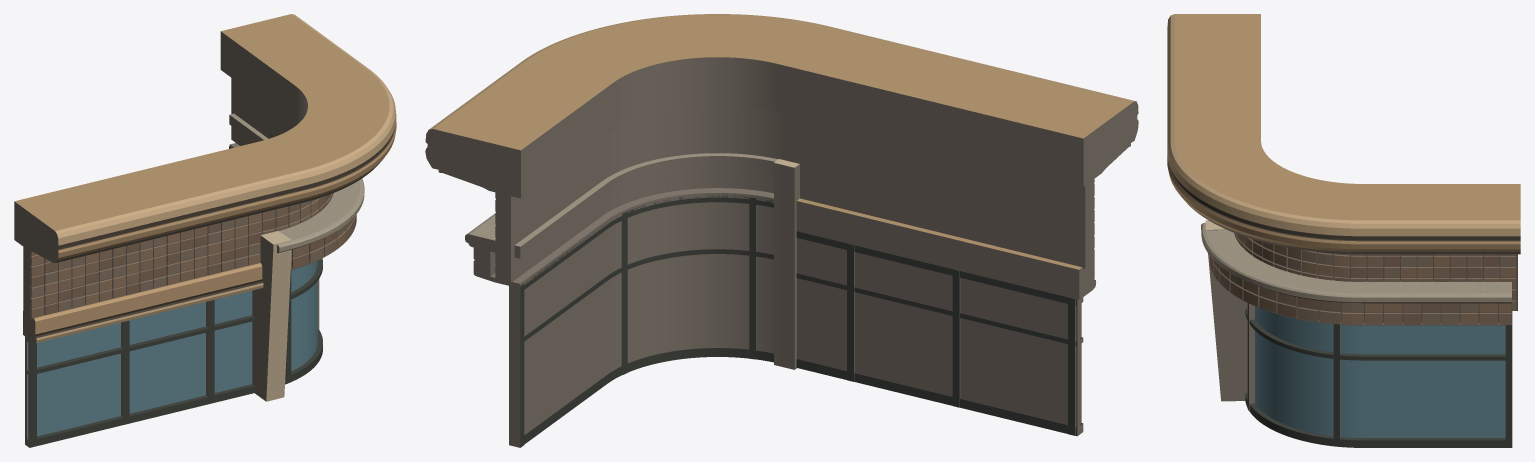
Rendered from xuhui-wuxing-96-curved-cornice-raw.glb.
3 views of the same model, side by side, from view 1: azimuth 30°, elevation 25°; view 2: azimuth 150°, elevation 25°; view 3: azimuth 270°, elevation 25° (orthographic). The views are drawn at different scales.
Parts seen in each view (by area): view 1: 吴兴路96号花园住宅圆角檐口与窗罩; view 2: 吴兴路96号花园住宅圆角檐口与窗罩; view 3: 吴兴路96号花园住宅圆角檐口与窗罩.
Part boxes in pixels (left/top/right/bottom): 吴兴路96号花园住宅圆角檐口与窗罩: left=14, top=14, right=396, bottom=447; 吴兴路96号花园住宅圆角檐口与窗罩: left=425, top=14, right=1138, bottom=447; 吴兴路96号花园住宅圆角檐口与窗罩: left=1167, top=14, right=1520, bottom=447.
Size of the model in its own units: 2.15 by 1.23 by 1.53.
Materials: 14 (1 with a texture image).
